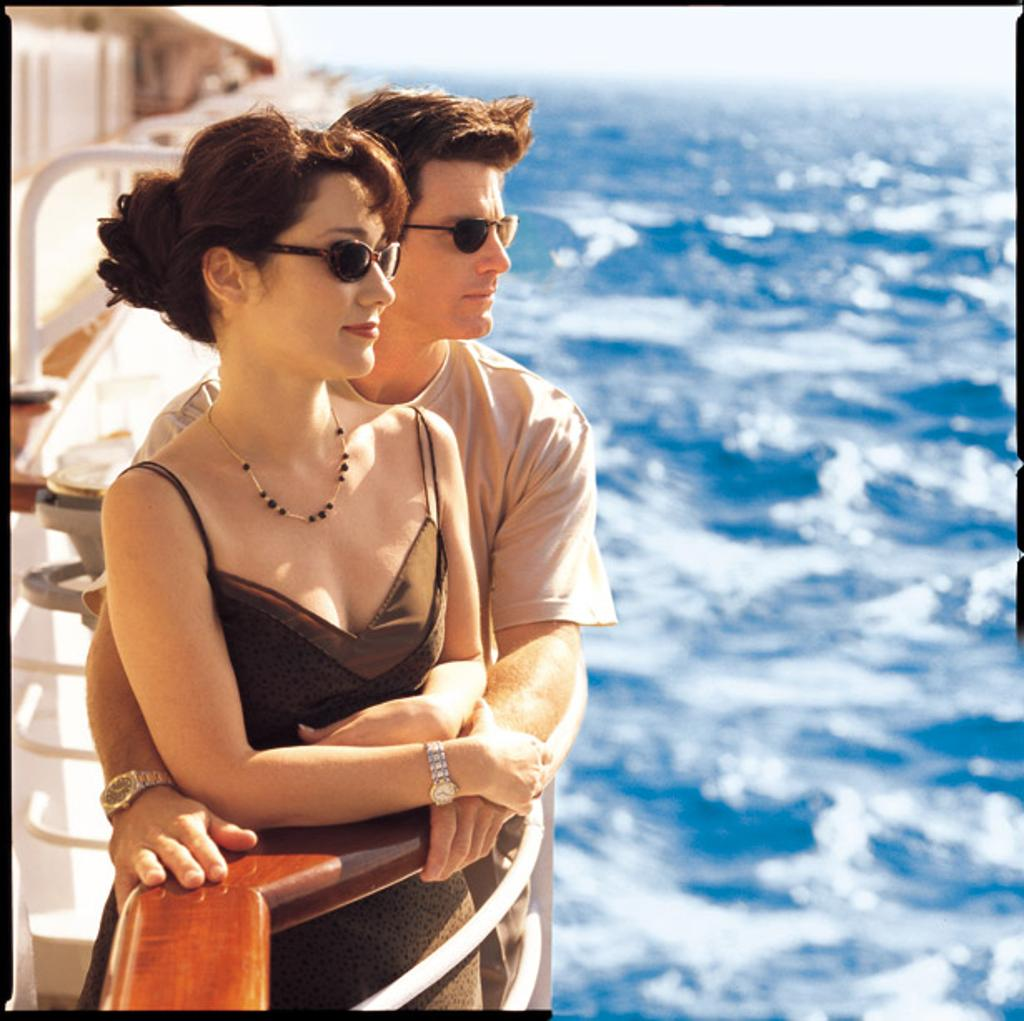face: (254, 172, 398, 378), (404, 158, 512, 336)
